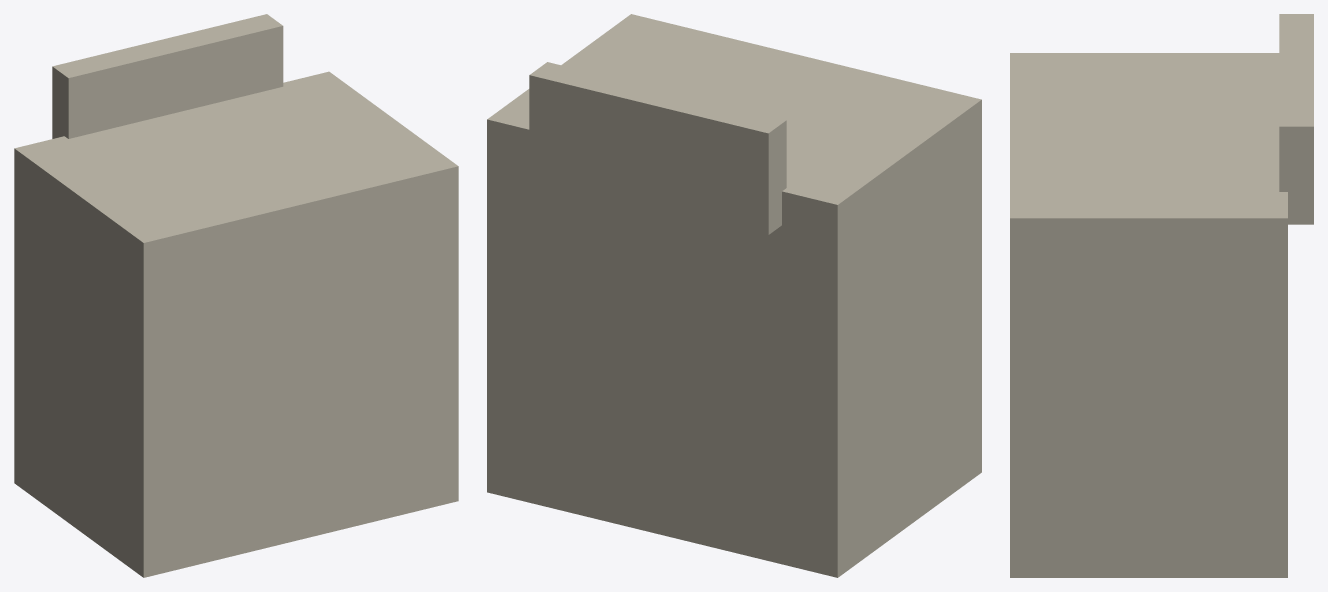
File: iz2_item_filter_cartridge.glb
The picture shows the model from 3 angles, left to right: view 1: azimuth 30°, elevation 25°; view 2: azimuth 150°, elevation 25°; view 3: azimuth 270°, elevation 25°; orthographic projection. The views are drawn at different scales.
Visible parts, largest first — view 1: body; view 2: body; view 3: body.
Boxes of the visible parts, x1,y1,x2,y2 form: body: (14,14,458,577); body: (487,14,981,577); body: (1010,14,1313,577).
Bounding box in the file's own units: 0.2176 × 0.2613 × 0.1693.
